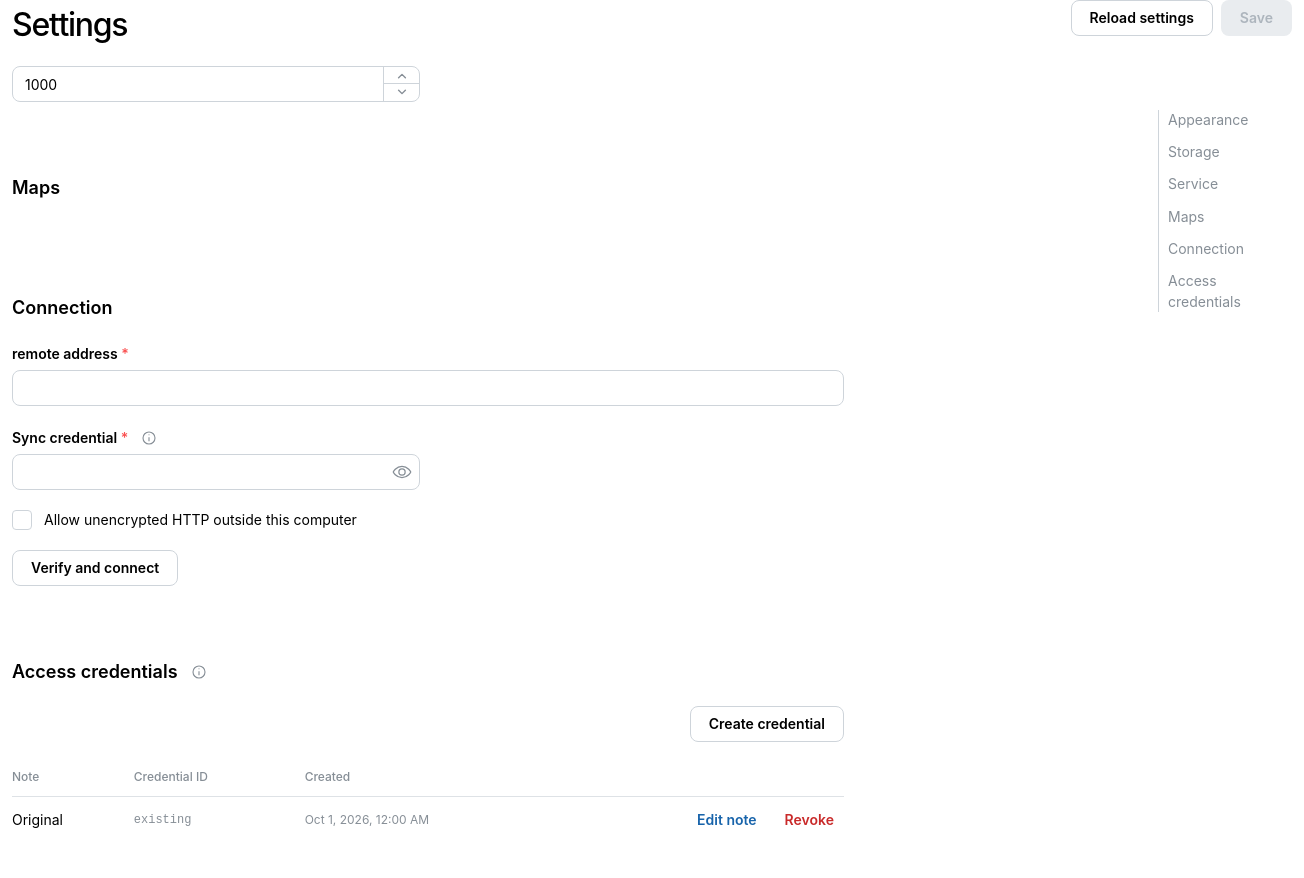
Test case: keeps rejected credential edits and opens the server's field error next to the note
(page scrolled)
Click the button "Edit note" at coordinates (727, 820), box [688,807,766,833]
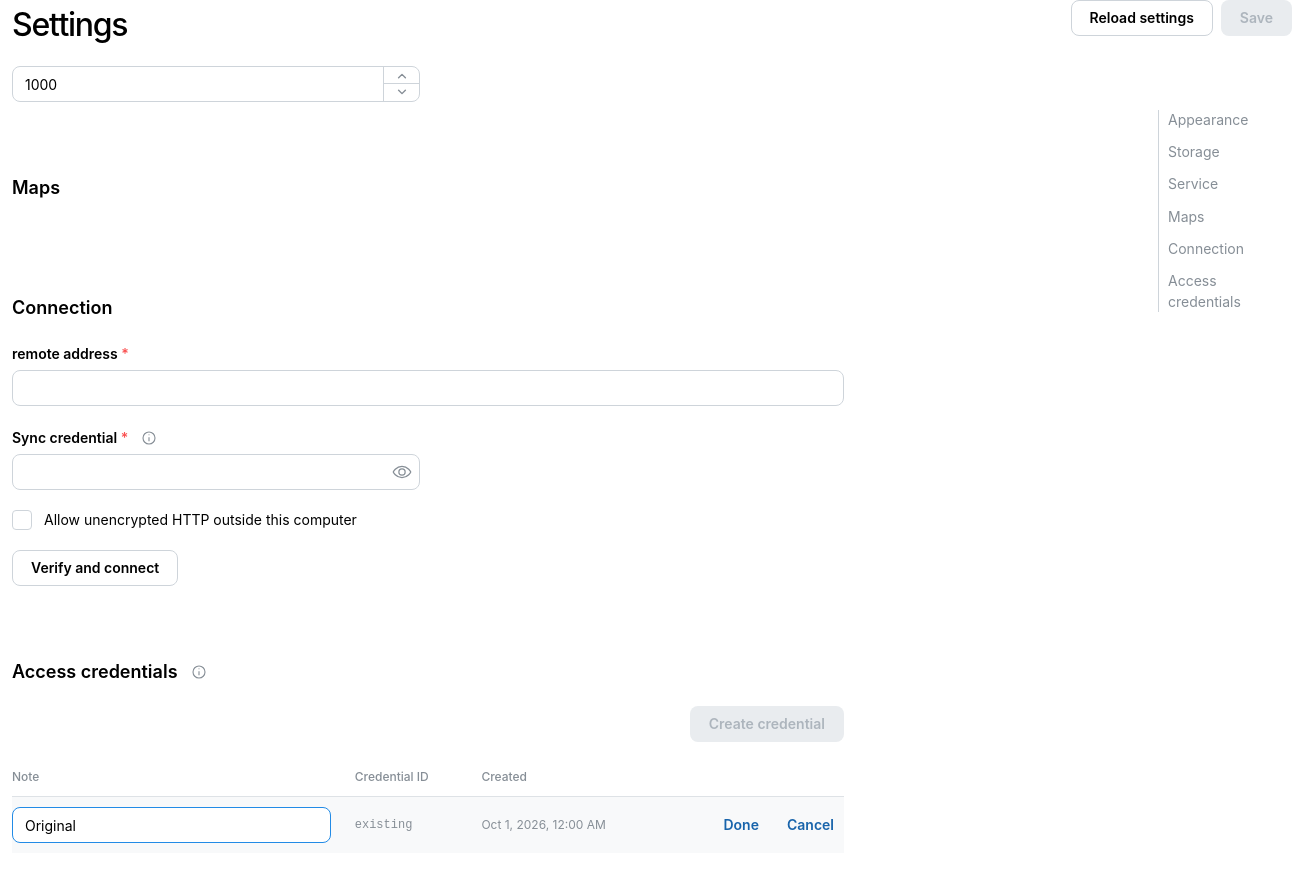
Replace the text in the field named "Note (optional)" with "Rejected" at coordinates (171, 825), box [12,807,331,843]
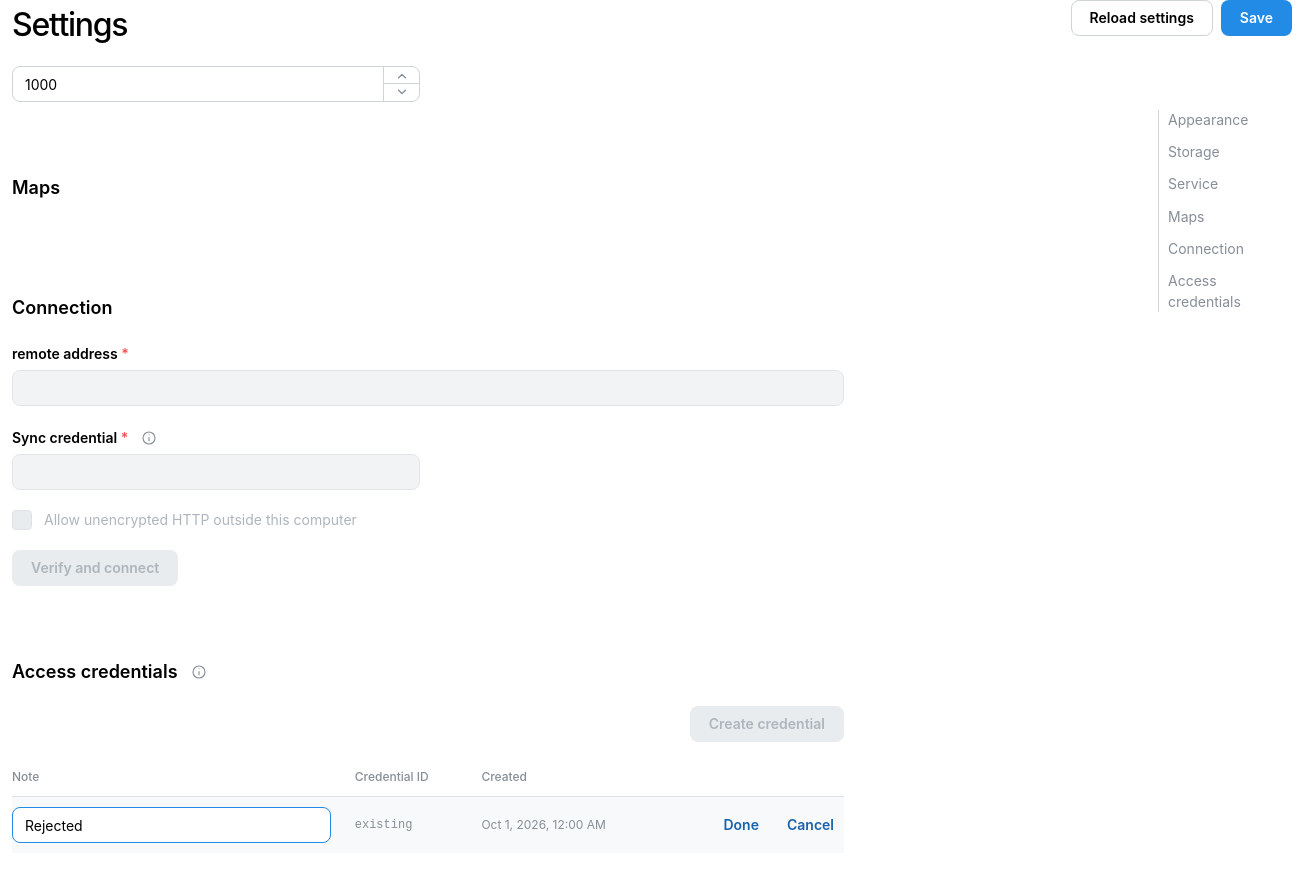
Click the button "Done" at coordinates (741, 825), box [714,812,768,838]
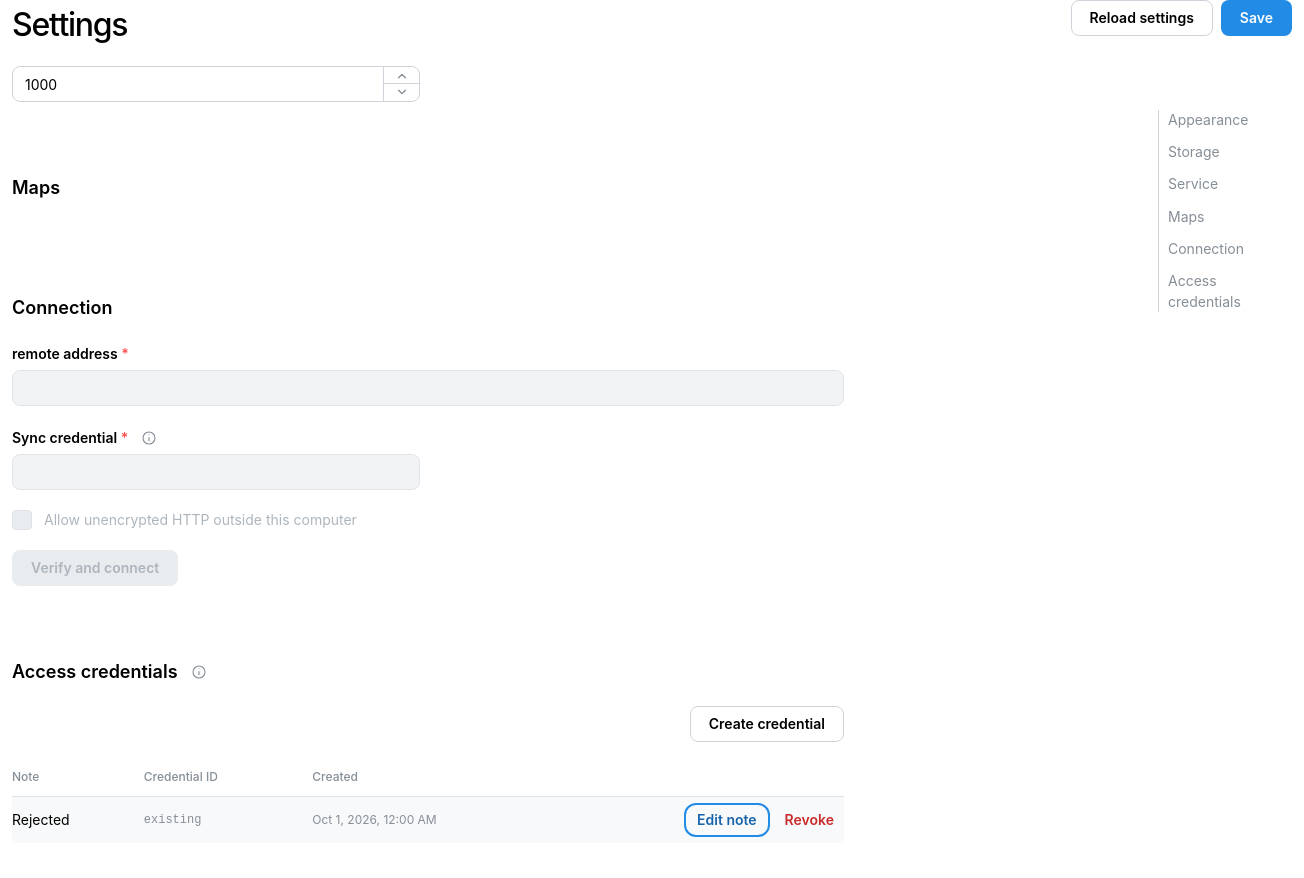
Click the button "Save" at coordinates (1256, 18), box [1221,0,1292,36]
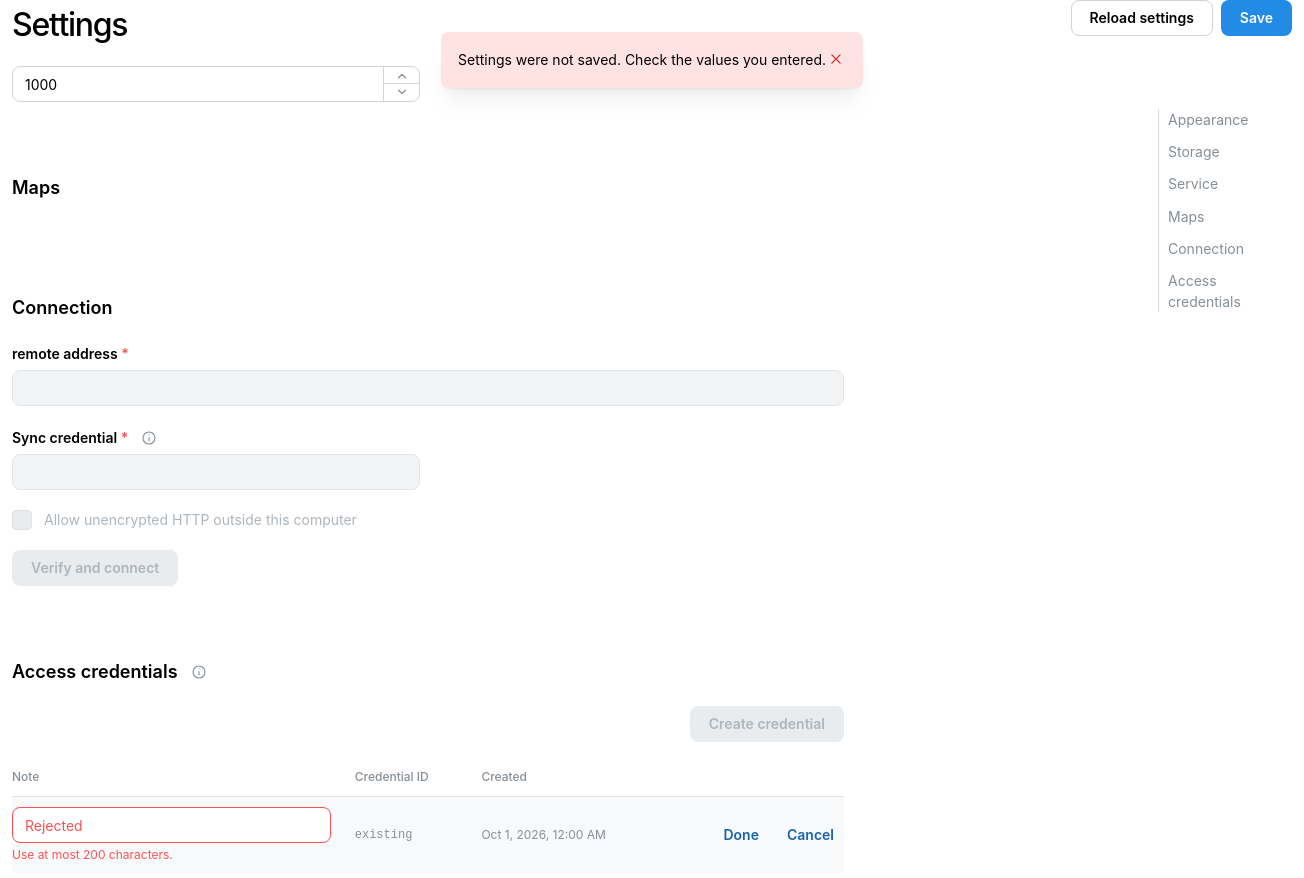
Result: the field named "Note (optional)" holds "Rejected" at [12,807,331,843]
Result: the text "Use at most 200 characters." is shown at [12,847,173,862]
